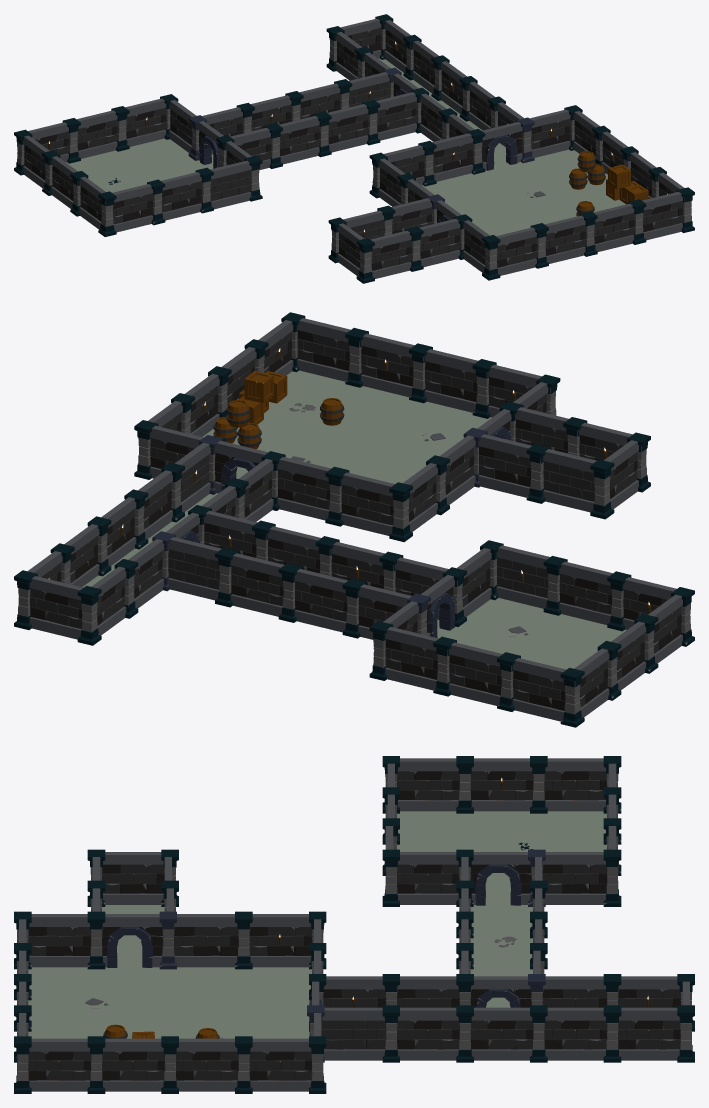
File: DungeonPieces.gltf
The picture shows the model from 3 angles, top to bottom: view 1: azimuth 30°, elevation 25°; view 2: azimuth 150°, elevation 25°; view 3: azimuth 270°, elevation 25°; orthographic projection. The views are drawn at different scales.
Parts seen in each view (by area): view 1: Dungeon; view 2: Dungeon; view 3: Dungeon.
Part boxes in pixels (x1,y1,x2,y2): Dungeon: (14, 14, 694, 283); Dungeon: (14, 312, 694, 727); Dungeon: (14, 756, 694, 1093).
Bounding box in the file's own units: 36.95 × 3.04 × 36.95.
Materials: 2 (1 with a texture image).
